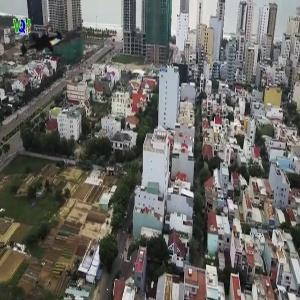drone: (7, 13, 80, 86)
